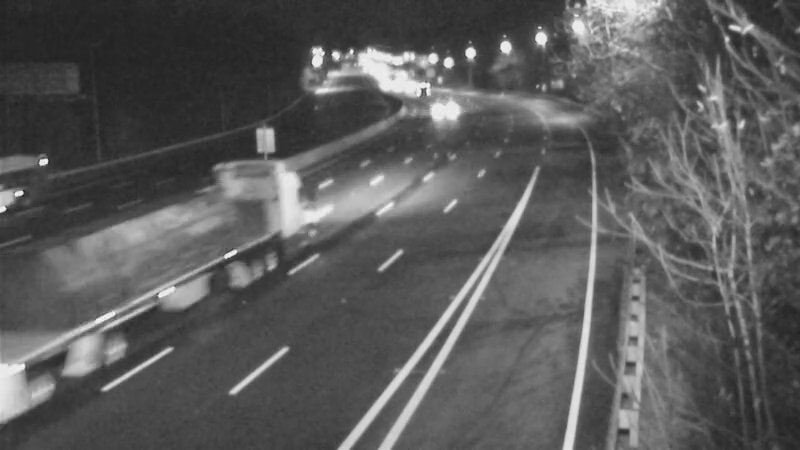vehicle: (144, 211, 224, 291), (1, 143, 70, 223), (397, 66, 447, 116), (418, 86, 468, 136)
